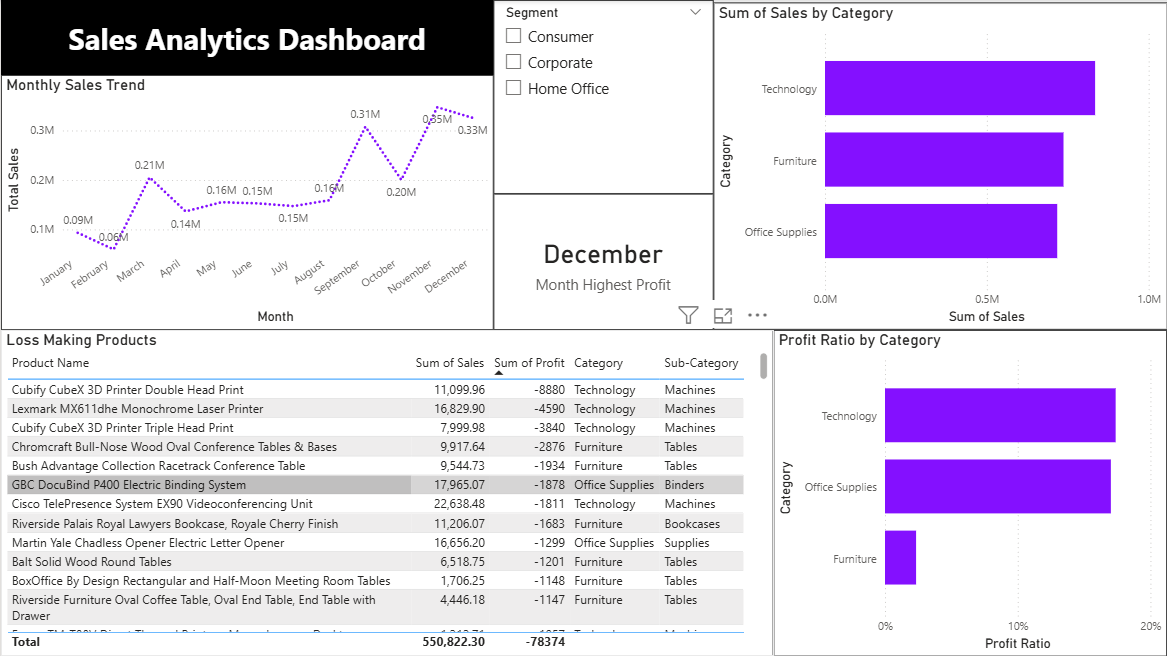

The page's visual inventory and layout, read from the dashboard file:
{"tool":"powerbi","page":{"name":"Page 2","canvas":[1280,720],"ordinal":1},"visuals":[{"type":"lineChart","title":"Monthly Sales Trend","fields":{"Category":["Orders.Order Date.Variation.Date Hierarchy.Month"],"Y":["Orders.total sales"]},"box":[0,82.3,540.7,279.9],"z":0},{"type":"slicer","fields":{"Values":["Orders.Segment"]},"box":[540.7,0,241.5,212.7],"z":1000},{"type":"card","fields":{"Values":["Orders.Month Highest Profit"]},"box":[540.7,212.7,241.5,149.6],"z":2000},{"type":"clusteredBarChart","fields":{"Y":["Orders.Profit Ratio"],"Category":["Orders.Category"]},"box":[848,362.3,432.2,358.1],"z":3000},{"type":"clusteredBarChart","fields":{"Category":["Orders.Category"],"Y":["Sum(Orders.Sales)"]},"box":[782.2,2.7,498.1,359.5],"z":4000},{"type":"tableEx","title":"Loss Making Products","fields":{"Values":["Orders.Product Name","Sum(Orders.Sales)","Sum(Orders.Profit)","Orders.Category","Orders.Sub-Category"]},"box":[0,362.3,848,358.1],"z":5000},{"type":"textbox","box":[0,0,540.7,82.3],"z":6000}]}

Visuals, with their boxes in screenshot pixels (x1, y1, x2, y2), scaled from the page's 1280x720 canvas onto the 1167x656 screenshot:
"Monthly Sales Trend" lineChart: 0/75/493/330
slicer - Orders.Segment: 493/0/713/194
card - Orders.Month Highest Profit: 493/194/713/330
clusteredBarChart - Orders.Profit Ratio x Orders.Category: 773/330/1166/655
clusteredBarChart - Orders.Category x Sum(Orders.Sales): 713/2/1166/330
"Loss Making Products" tableEx: 0/330/773/655
textbox: 0/0/493/75
